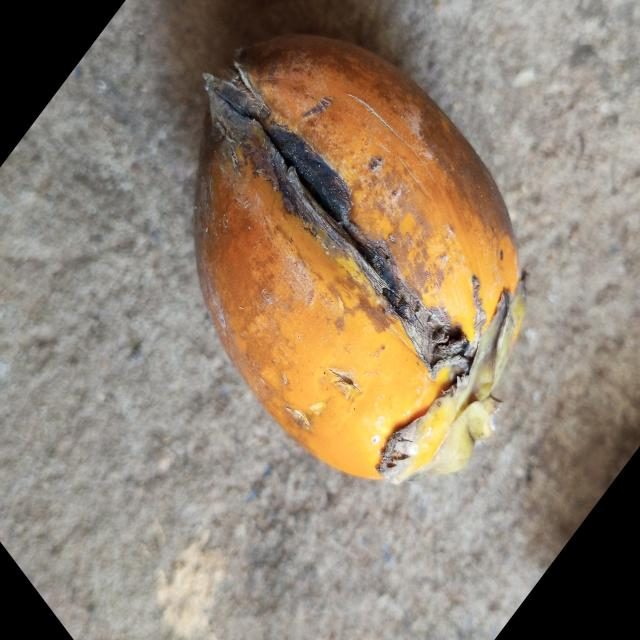damaged: (192, 36, 525, 487)
